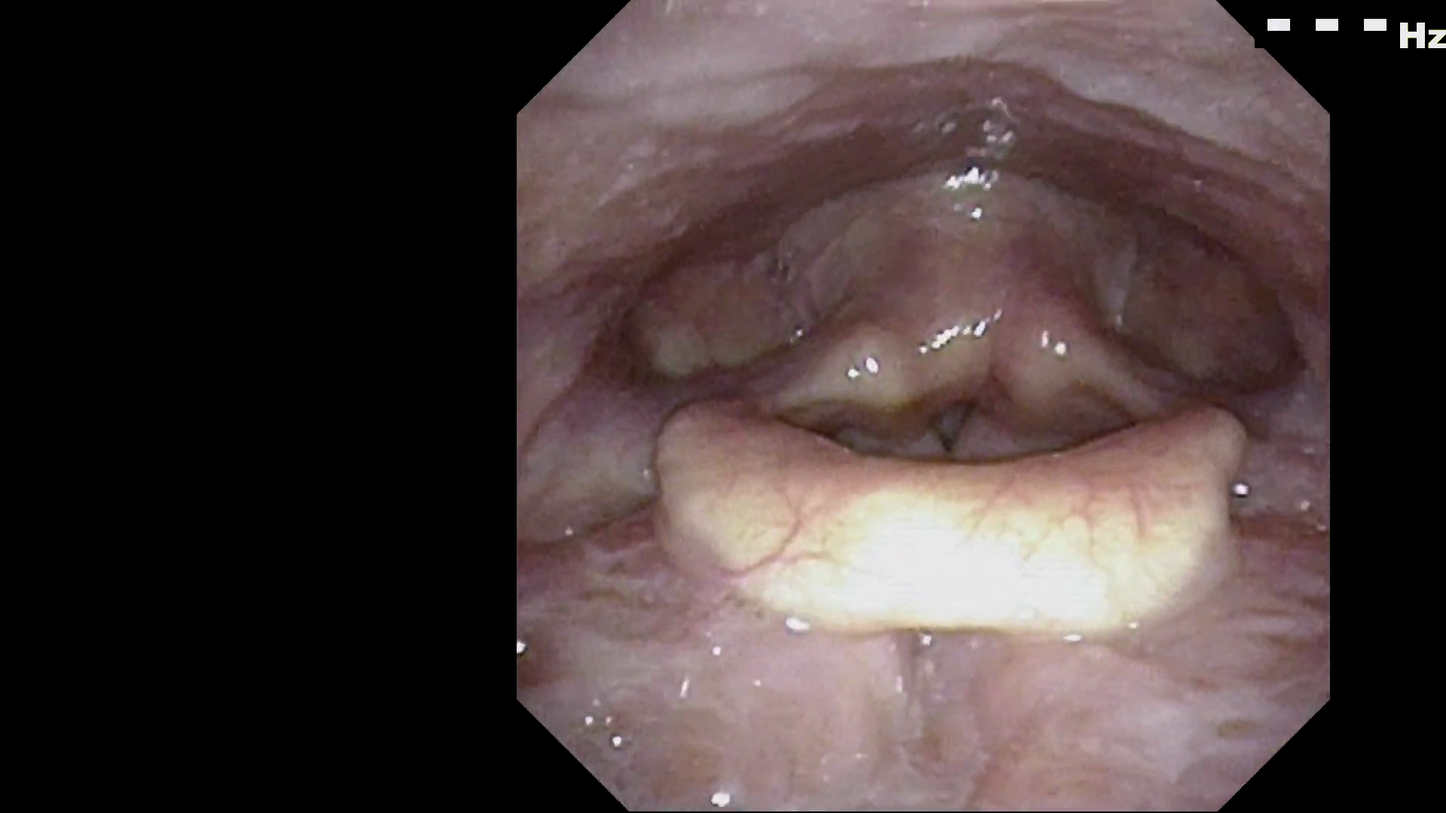epiglottis: (641, 369, 1268, 652)
trachea: (890, 349, 1005, 489)
